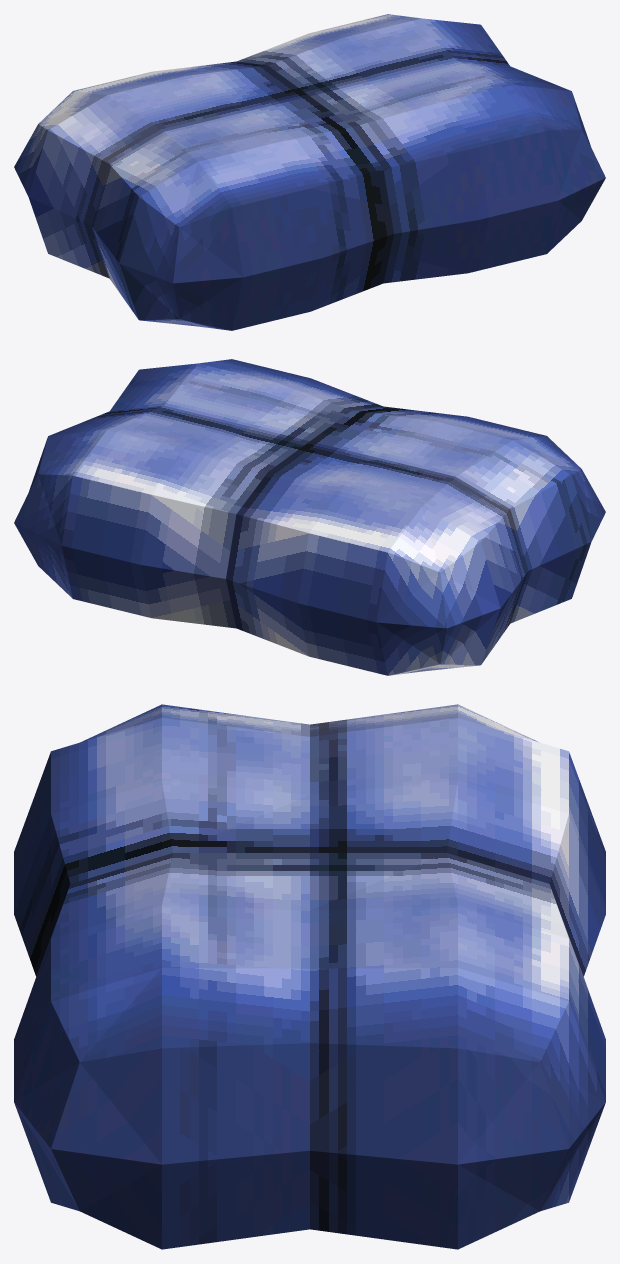
The model's file is drug_blue.obj.
3 renders of one model, top to bottom at view 1: azimuth 30°, elevation 25°; view 2: azimuth 150°, elevation 25°; view 3: azimuth 270°, elevation 25°, orthographic. The views are drawn at different scales.
Visible parts, largest first — view 1: drug_blue; view 2: drug_blue; view 3: drug_blue.
Boxes of the visible parts, x1,y1,x2,y2 form: drug_blue: (14,14,605,330); drug_blue: (14,359,605,675); drug_blue: (14,704,605,1249).
Bounding box in the file's own units: 0.5375 × 0.1792 × 0.3583.
1 material, 1 textured.
